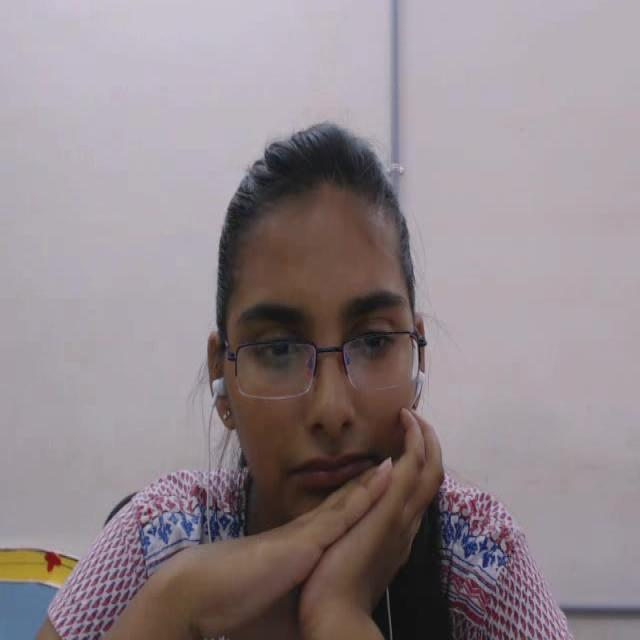Bored: (186, 68, 440, 574)
